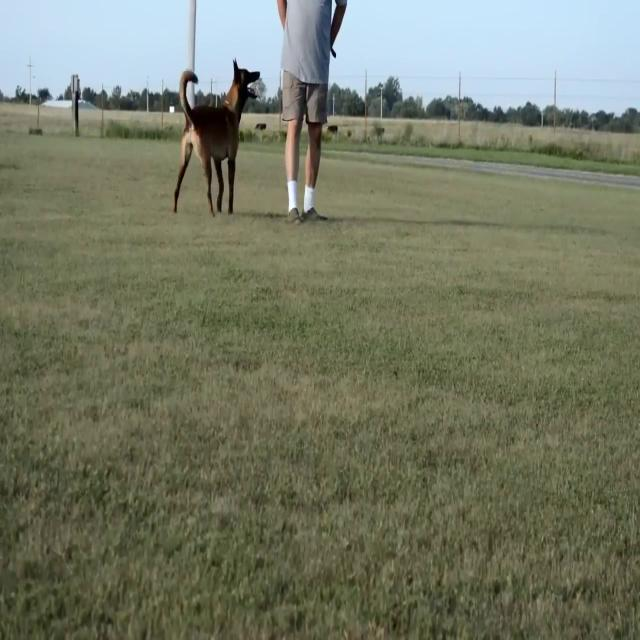Unleashed_Dog: (172, 59, 315, 215)
